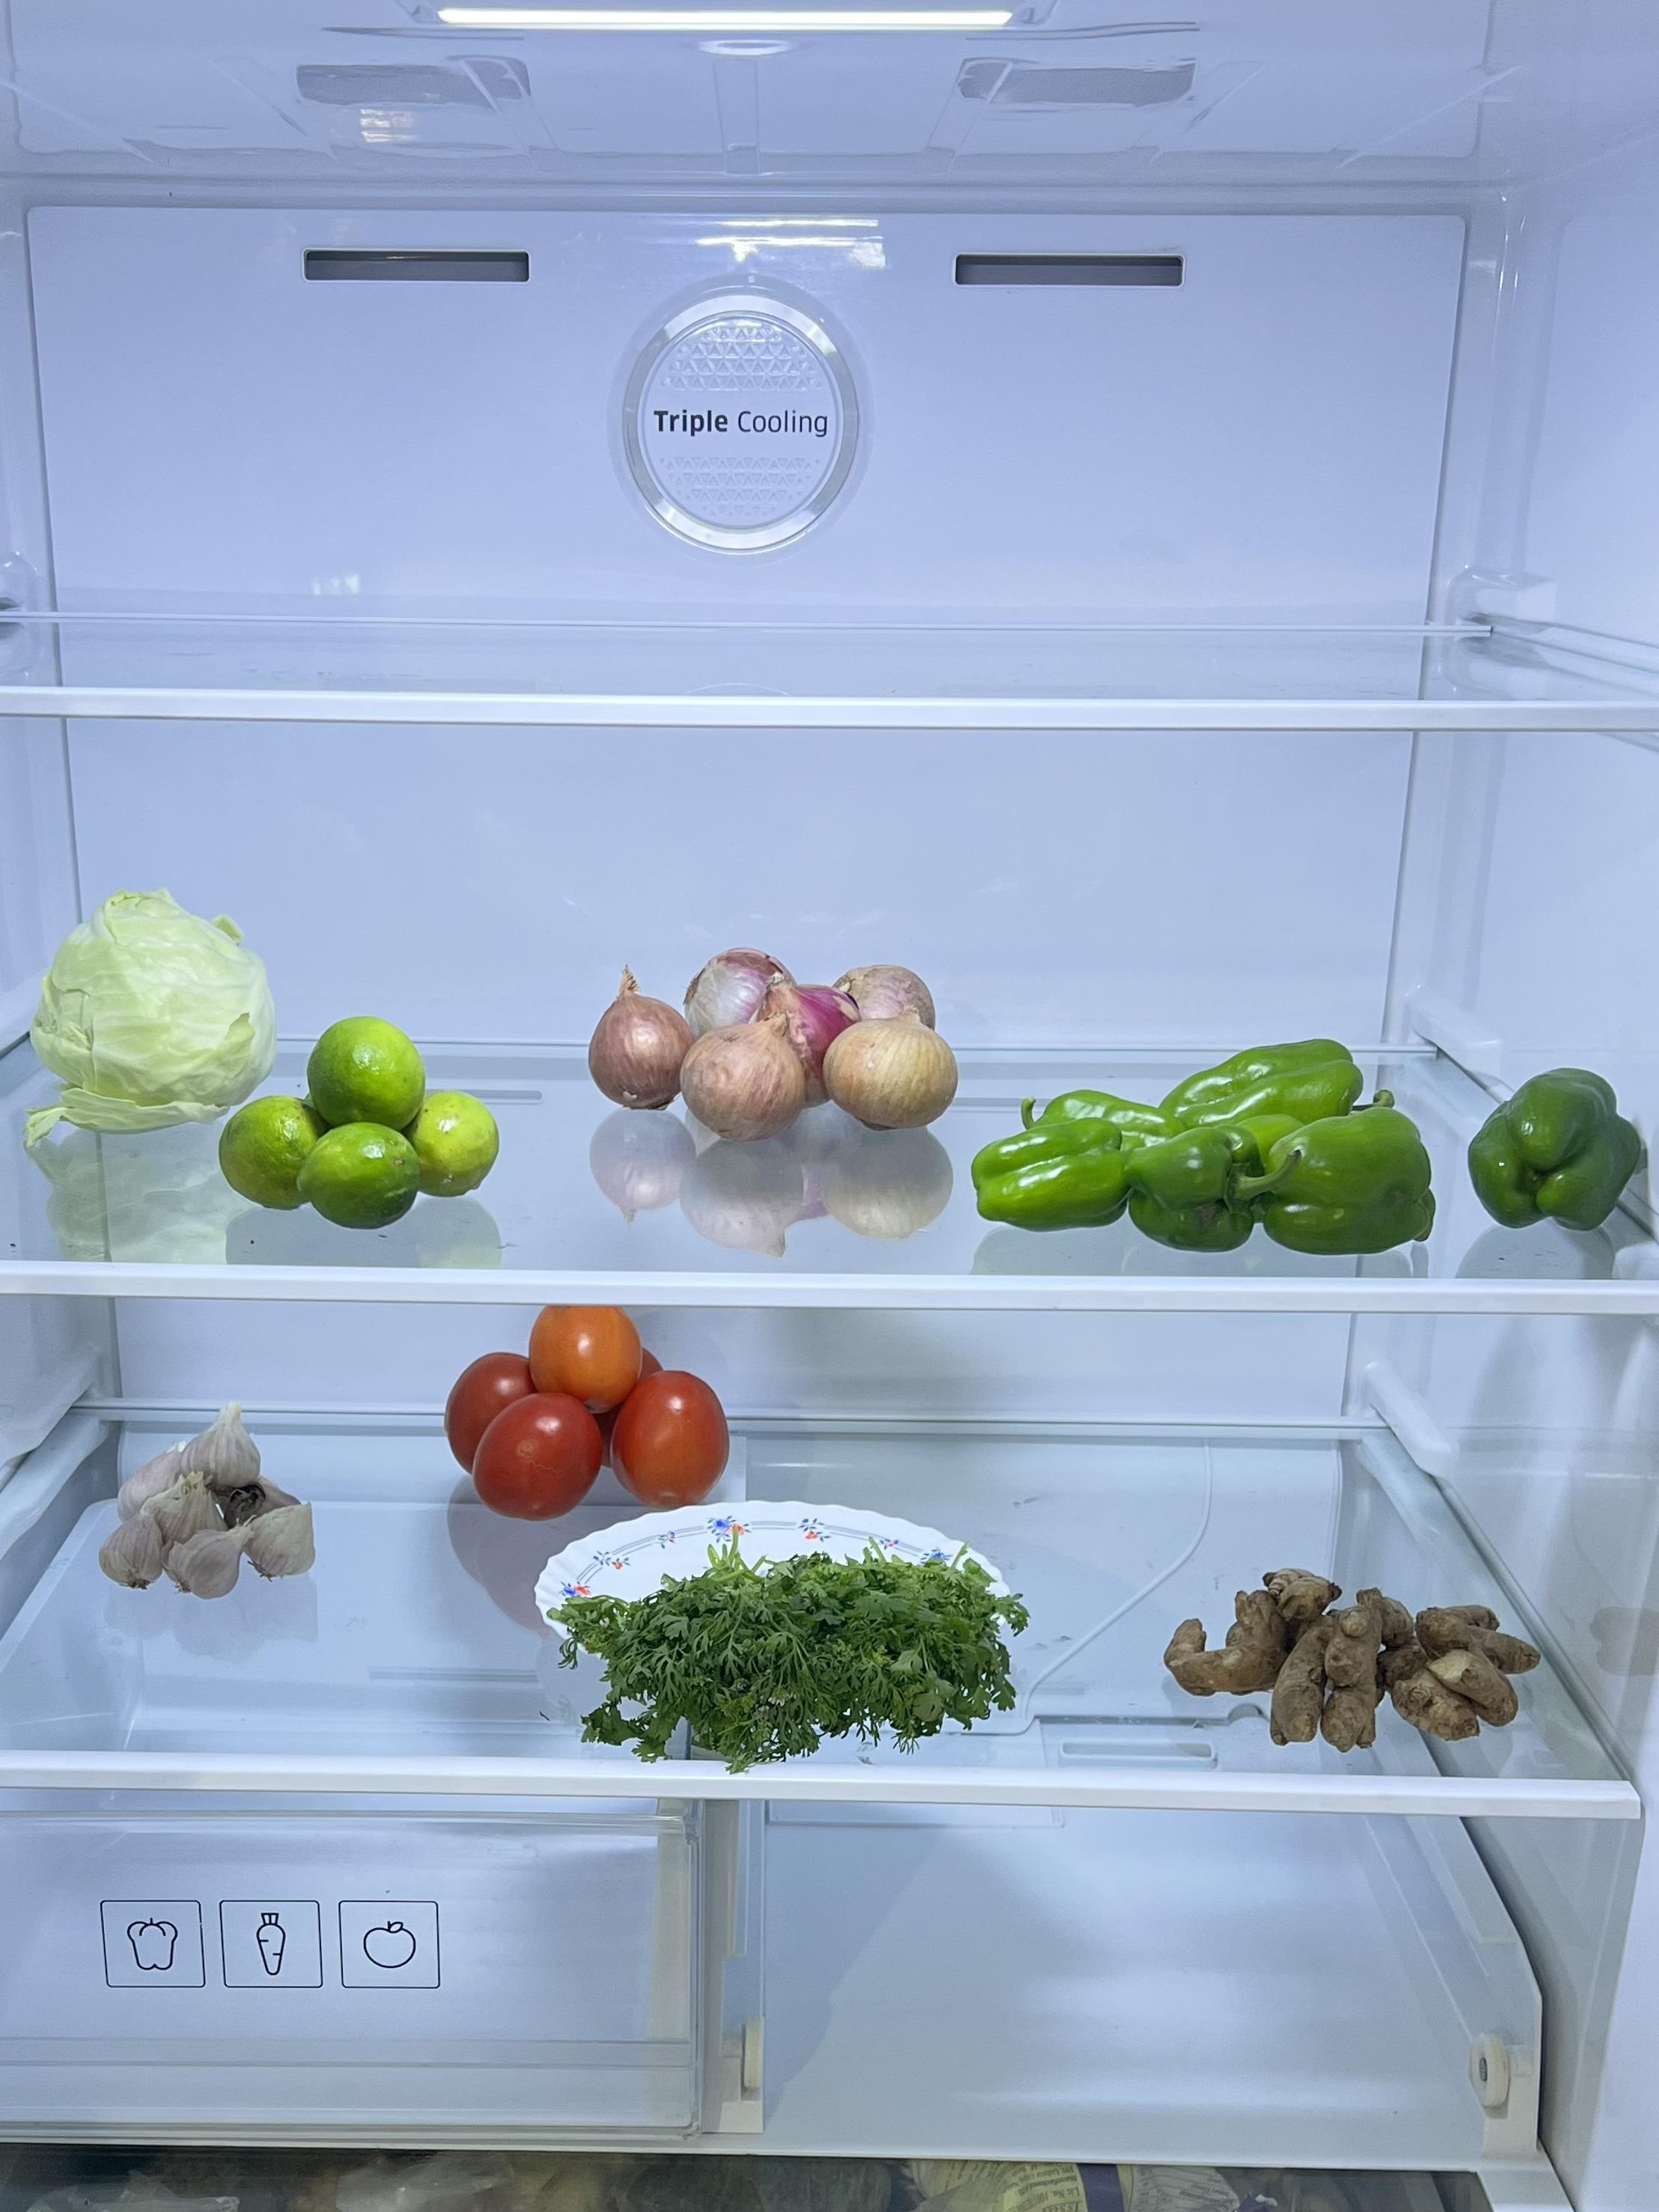cabbage: (19, 884, 286, 1126)
capsicum: (974, 1030, 1647, 1262)
coriander: (547, 1539, 1033, 1774)
garlic: (106, 1389, 321, 1604)
ginger: (1164, 1555, 1551, 1754)
lemon: (225, 1011, 498, 1231)
onion: (554, 929, 958, 1130)
tomato: (436, 1285, 732, 1525)
